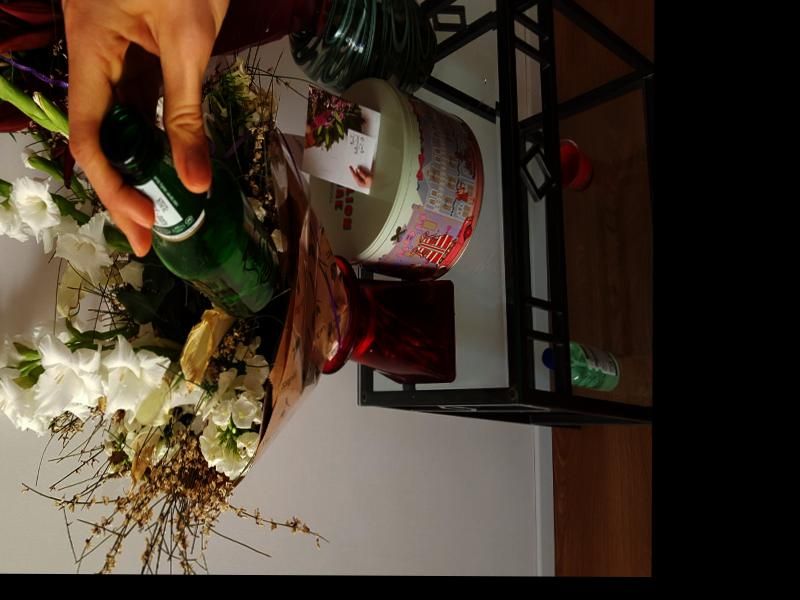Beer: (98, 106, 278, 316)
